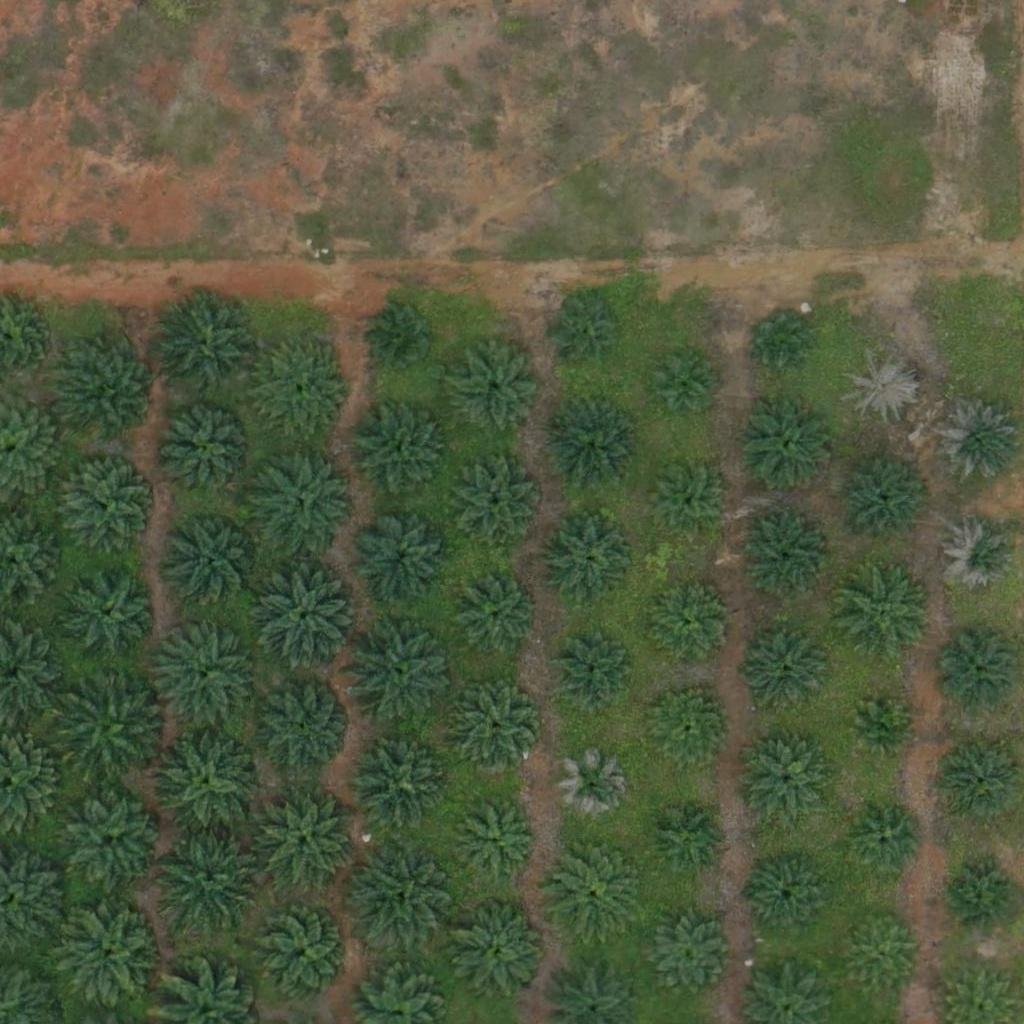Kelapa_Sawit: (57, 669, 170, 783), (149, 726, 262, 840), (157, 825, 270, 939), (344, 616, 457, 729), (147, 619, 259, 733), (344, 841, 456, 955), (151, 290, 263, 403), (251, 560, 363, 673), (59, 345, 159, 446), (64, 788, 164, 889), (160, 404, 260, 505), (162, 510, 262, 611), (253, 342, 353, 443), (255, 448, 355, 549), (349, 400, 449, 501), (352, 508, 452, 609), (350, 732, 450, 833), (446, 338, 546, 439), (548, 841, 648, 942), (636, 906, 736, 1007), (57, 903, 157, 1004), (59, 454, 159, 554), (62, 565, 162, 665), (254, 676, 354, 776), (256, 793, 356, 893), (738, 396, 838, 496), (837, 450, 937, 550), (837, 564, 937, 664), (450, 900, 550, 1000), (253, 903, 353, 1003), (454, 462, 542, 551), (644, 686, 732, 775), (746, 853, 834, 942), (645, 793, 733, 881), (548, 405, 636, 493), (545, 518, 633, 606), (647, 584, 735, 672), (933, 398, 1021, 486), (935, 628, 1023, 716), (451, 576, 538, 664), (454, 686, 541, 774), (743, 513, 830, 601), (742, 629, 829, 717), (743, 739, 830, 827), (460, 803, 535, 879), (844, 349, 919, 425), (945, 519, 1020, 595), (650, 468, 725, 543), (850, 804, 925, 879), (947, 859, 1022, 934), (554, 636, 629, 711), (556, 750, 631, 825), (842, 915, 917, 990), (555, 301, 618, 364), (652, 348, 715, 411), (372, 303, 435, 366), (852, 699, 915, 762), (748, 309, 810, 371)
